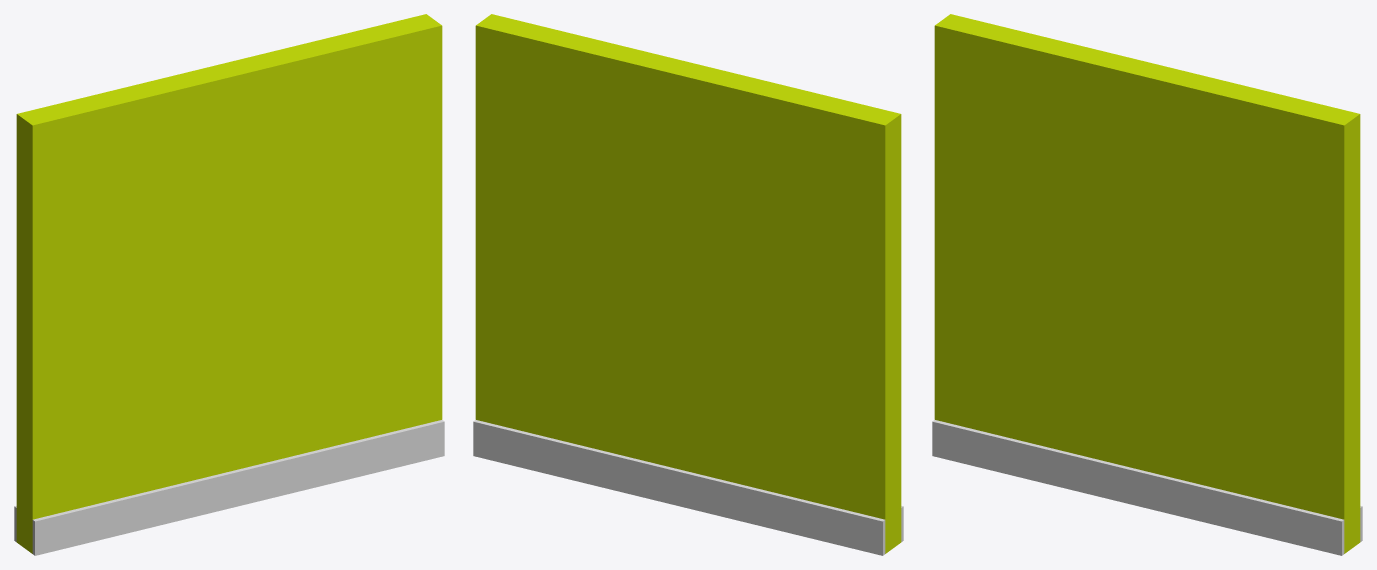
The model's file is MuurMetRand2Mat.fbx.
3 views of the same model, side by side, from view 1: azimuth 30°, elevation 25°; view 2: azimuth 150°, elevation 25°; view 3: azimuth 330°, elevation 25° (orthographic).
Visible parts, largest first — view 1: MuurMetRand; view 2: MuurMetRand; view 3: MuurMetRand.
Part boxes in pixels (box(x1,y1,x2,y2)): MuurMetRand: box(14, 14, 444, 555); MuurMetRand: box(473, 14, 903, 555); MuurMetRand: box(932, 14, 1362, 555).
Size of the model in its own units: 3 by 3 by 0.2642.
